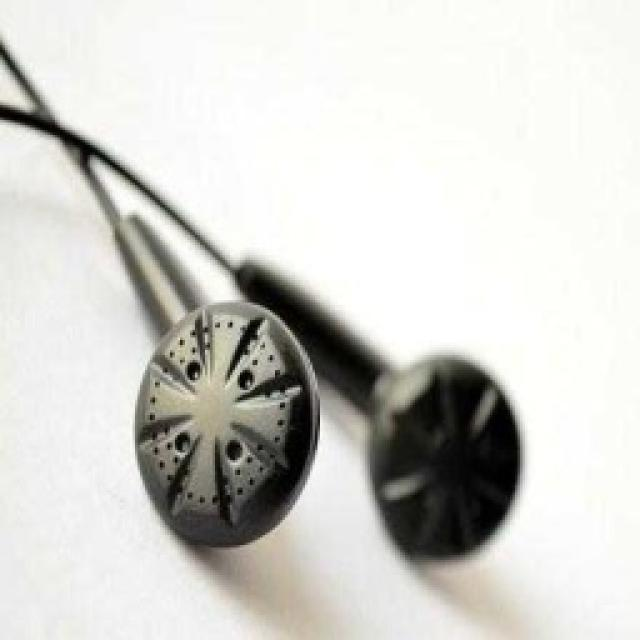headphones: (0, 0, 525, 565)
